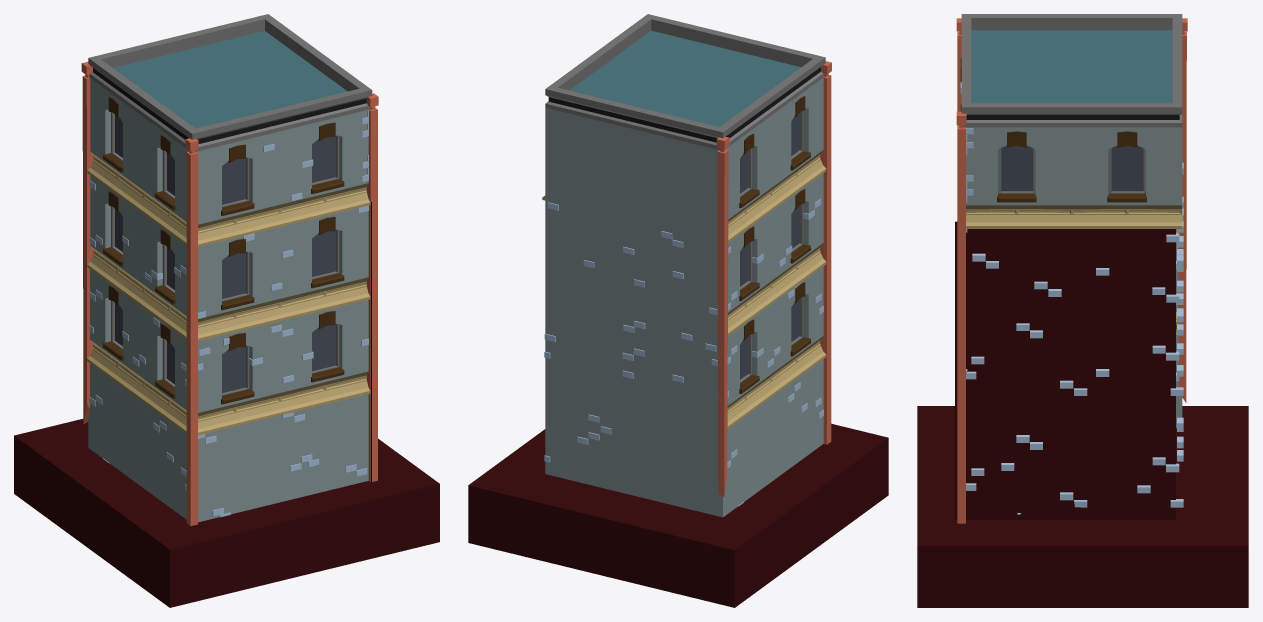
File: building.fbx
The picture shows the model from 3 angles, left to right: view 1: azimuth 30°, elevation 25°; view 2: azimuth 150°, elevation 25°; view 3: azimuth 270°, elevation 25°; orthographic projection. The views are drawn at different scales.
Parts seen in each view (by area): view 1: Cube; view 2: Cube; view 3: Cube.
Part boxes in pixels (left/top/right/bottom): Cube: left=14, top=14, right=439, bottom=607; Cube: left=468, top=14, right=888, bottom=607; Cube: left=917, top=14, right=1248, bottom=607.
Bounding box in the file's own units: 300 × 476 × 300.
